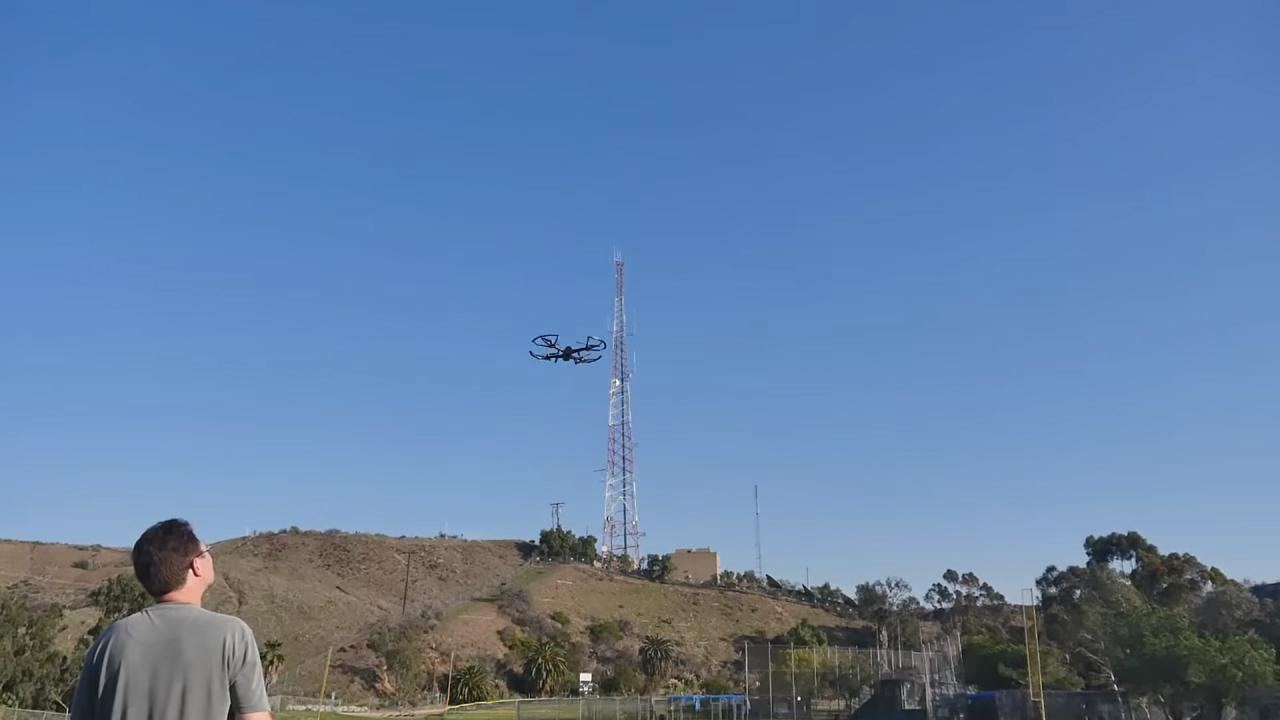Drone: (523, 326, 615, 374)
